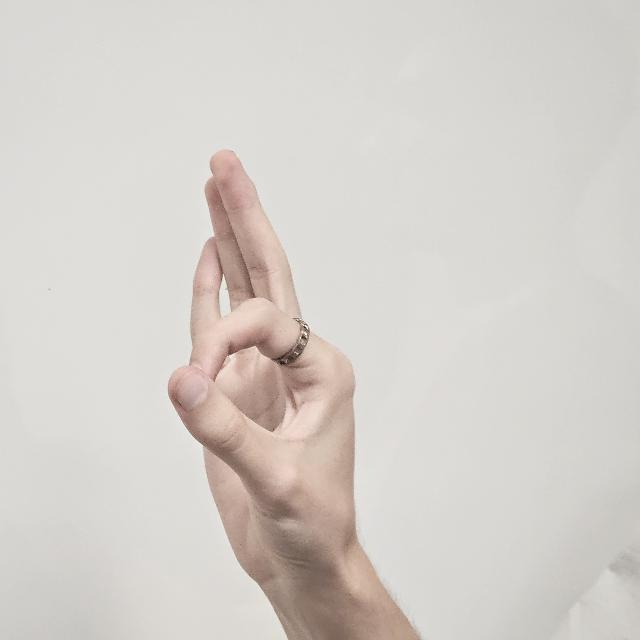Bolinha: (163, 135, 363, 577)
